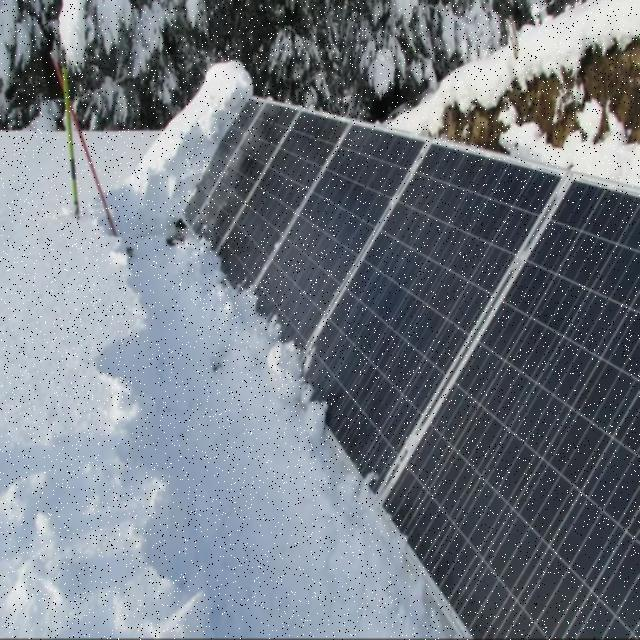snow covered: (164, 99, 638, 637)
